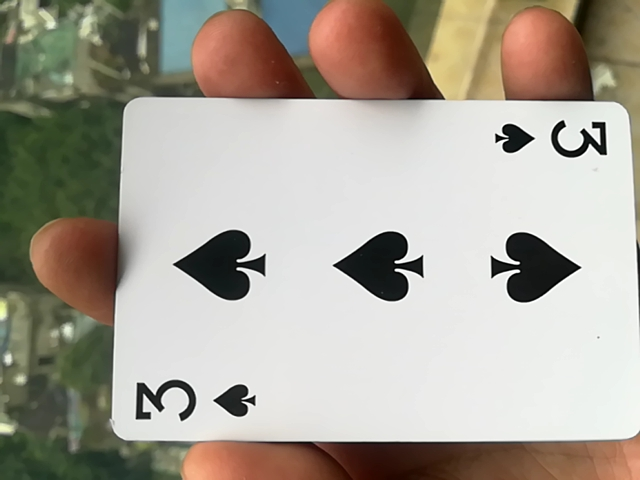ht 3: (93, 109, 636, 465)
